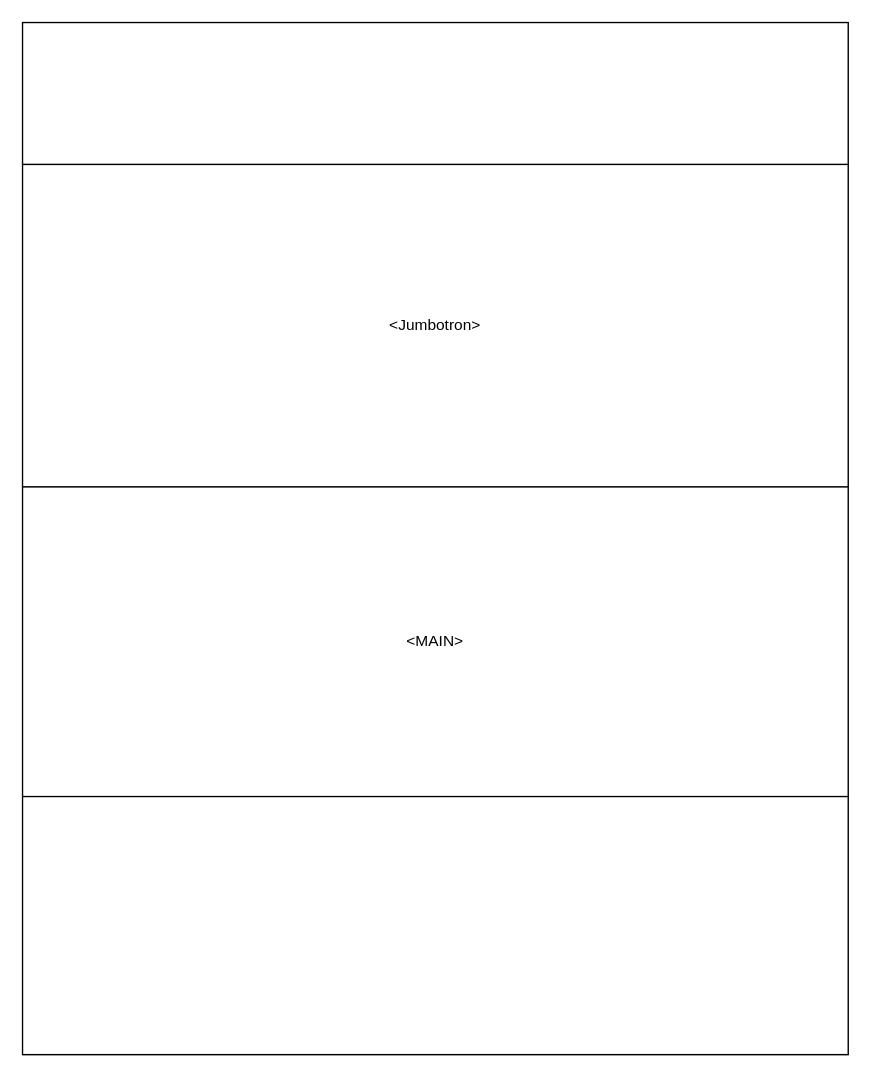
Image size: 871x1077. Some labels were removed from this diagram. Each missing label, with the centre of its shape:
"<FOOTER" goes at pixel 434 925.
"<HEADER>" goes at pixel 434 92.
